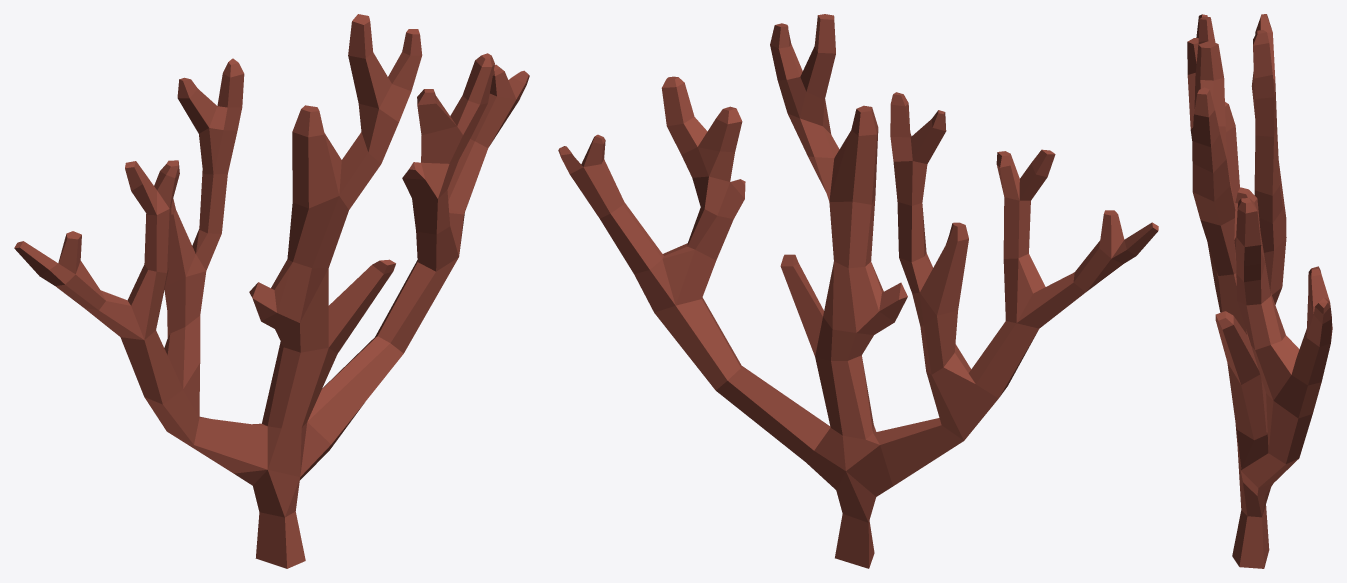
The model's file is trp_coral4.glb.
3 views of the same model, side by side, from view 1: azimuth 30°, elevation 25°; view 2: azimuth 150°, elevation 25°; view 3: azimuth 270°, elevation 25° (orthographic). The views are drawn at different scales.
Visible parts, largest first — view 1: SM_Prop_Coral_04; view 2: SM_Prop_Coral_04; view 3: SM_Prop_Coral_04.
Boxes of the visible parts, left/top/right/bottom form: SM_Prop_Coral_04: left=14, top=14, right=529, bottom=568; SM_Prop_Coral_04: left=558, top=14, right=1158, bottom=568; SM_Prop_Coral_04: left=1187, top=14, right=1332, bottom=568.
Bounding box in the file's own units: 0.4812 × 0.4351 × 0.1055.
1 material, 1 textured.
